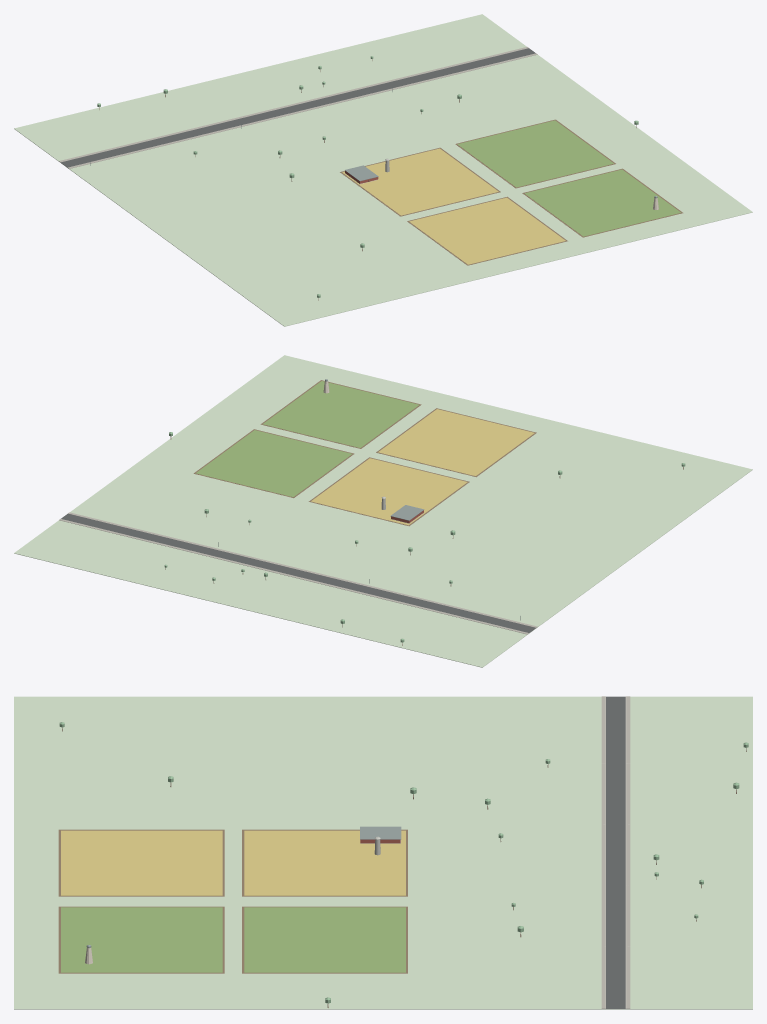
Rendered from chunk_6_4_low.glb.
3 views of the same model, one above another, from view 1: azimuth 30°, elevation 25°; view 2: azimuth 150°, elevation 25°; view 3: azimuth 270°, elevation 25° (orthographic). The views are drawn at different scales.
Parts seen in each view (by area): view 1: city_grass, city_field_corn, city_field_wheat, city_world_asphalt, city_world_sidewalk, city_field_soil, city_curb; view 2: city_grass, city_field_corn, city_field_wheat, city_world_asphalt, city_field_soil, city_world_sidewalk, city_curb; view 3: city_grass, city_field_corn, city_field_wheat, city_world_asphalt, city_field_soil, city_world_sidewalk, city_curb, city_roof_slate.
Boxes of the visible parts, x1,y1,x2,y2 form: city_grass: (14, 14, 752, 326); city_field_corn: (457, 120, 680, 236); city_field_wheat: (342, 148, 565, 264); city_world_asphalt: (61, 48, 535, 167); city_world_sidewalk: (59, 47, 537, 168); city_field_soil: (340, 119, 682, 265); city_curb: (60, 48, 535, 167); city_grass: (14, 355, 752, 667); city_field_corn: (196, 381, 419, 497); city_field_wheat: (311, 409, 534, 525); city_world_asphalt: (61, 513, 535, 632); city_field_soil: (193, 380, 536, 526); city_world_sidewalk: (59, 512, 537, 634); city_curb: (61, 513, 535, 632); city_grass: (14, 696, 752, 1009); city_field_corn: (61, 907, 405, 972); city_field_wheat: (61, 830, 405, 895); city_world_asphalt: (606, 696, 625, 1008); city_field_soil: (58, 829, 407, 973); city_world_sidewalk: (601, 696, 630, 1008); city_curb: (602, 696, 629, 1008); city_roof_slate: (86, 826, 401, 948).
Bounding box in the file's own units: 513 × 13.98 × 512.
